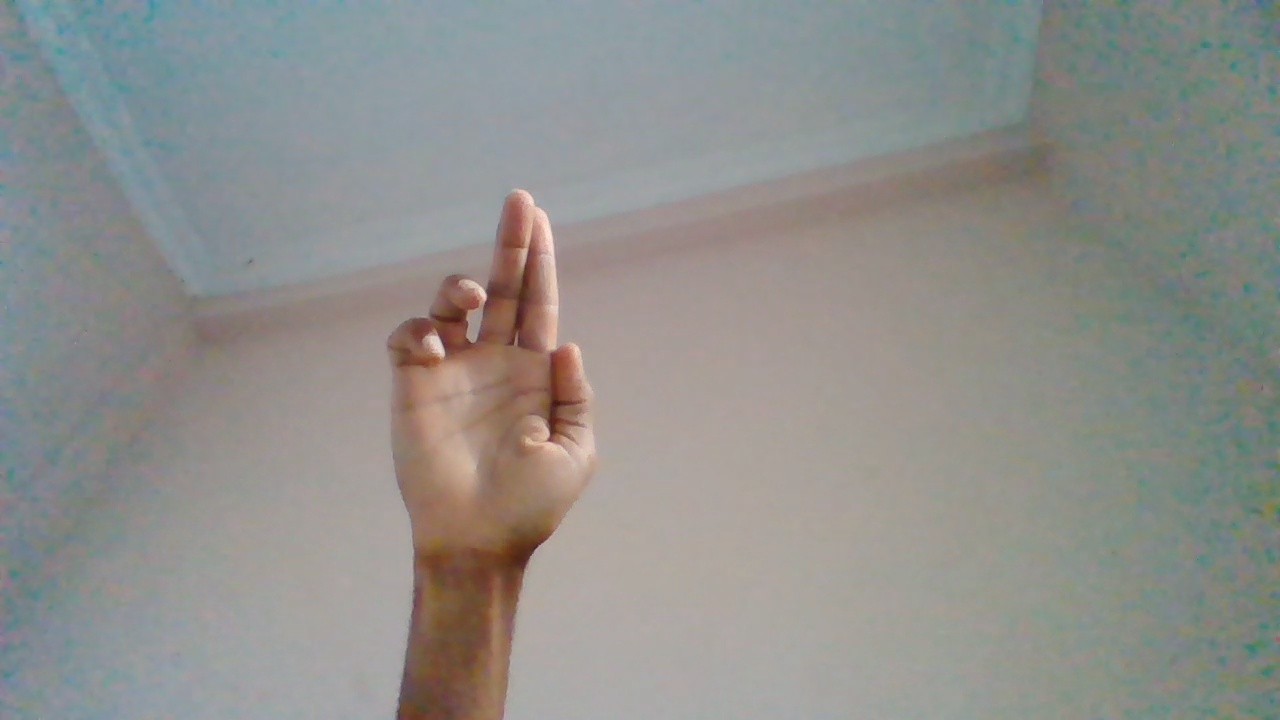gne: (380, 181, 583, 672)
